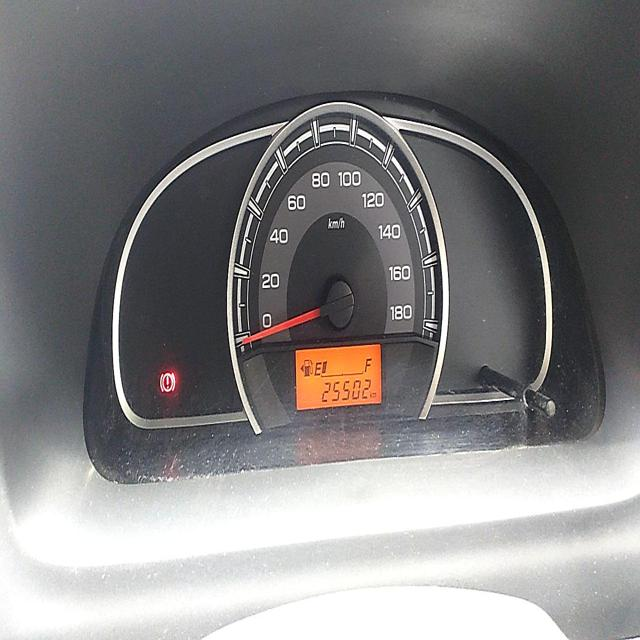odometer: (320, 372, 372, 406)
